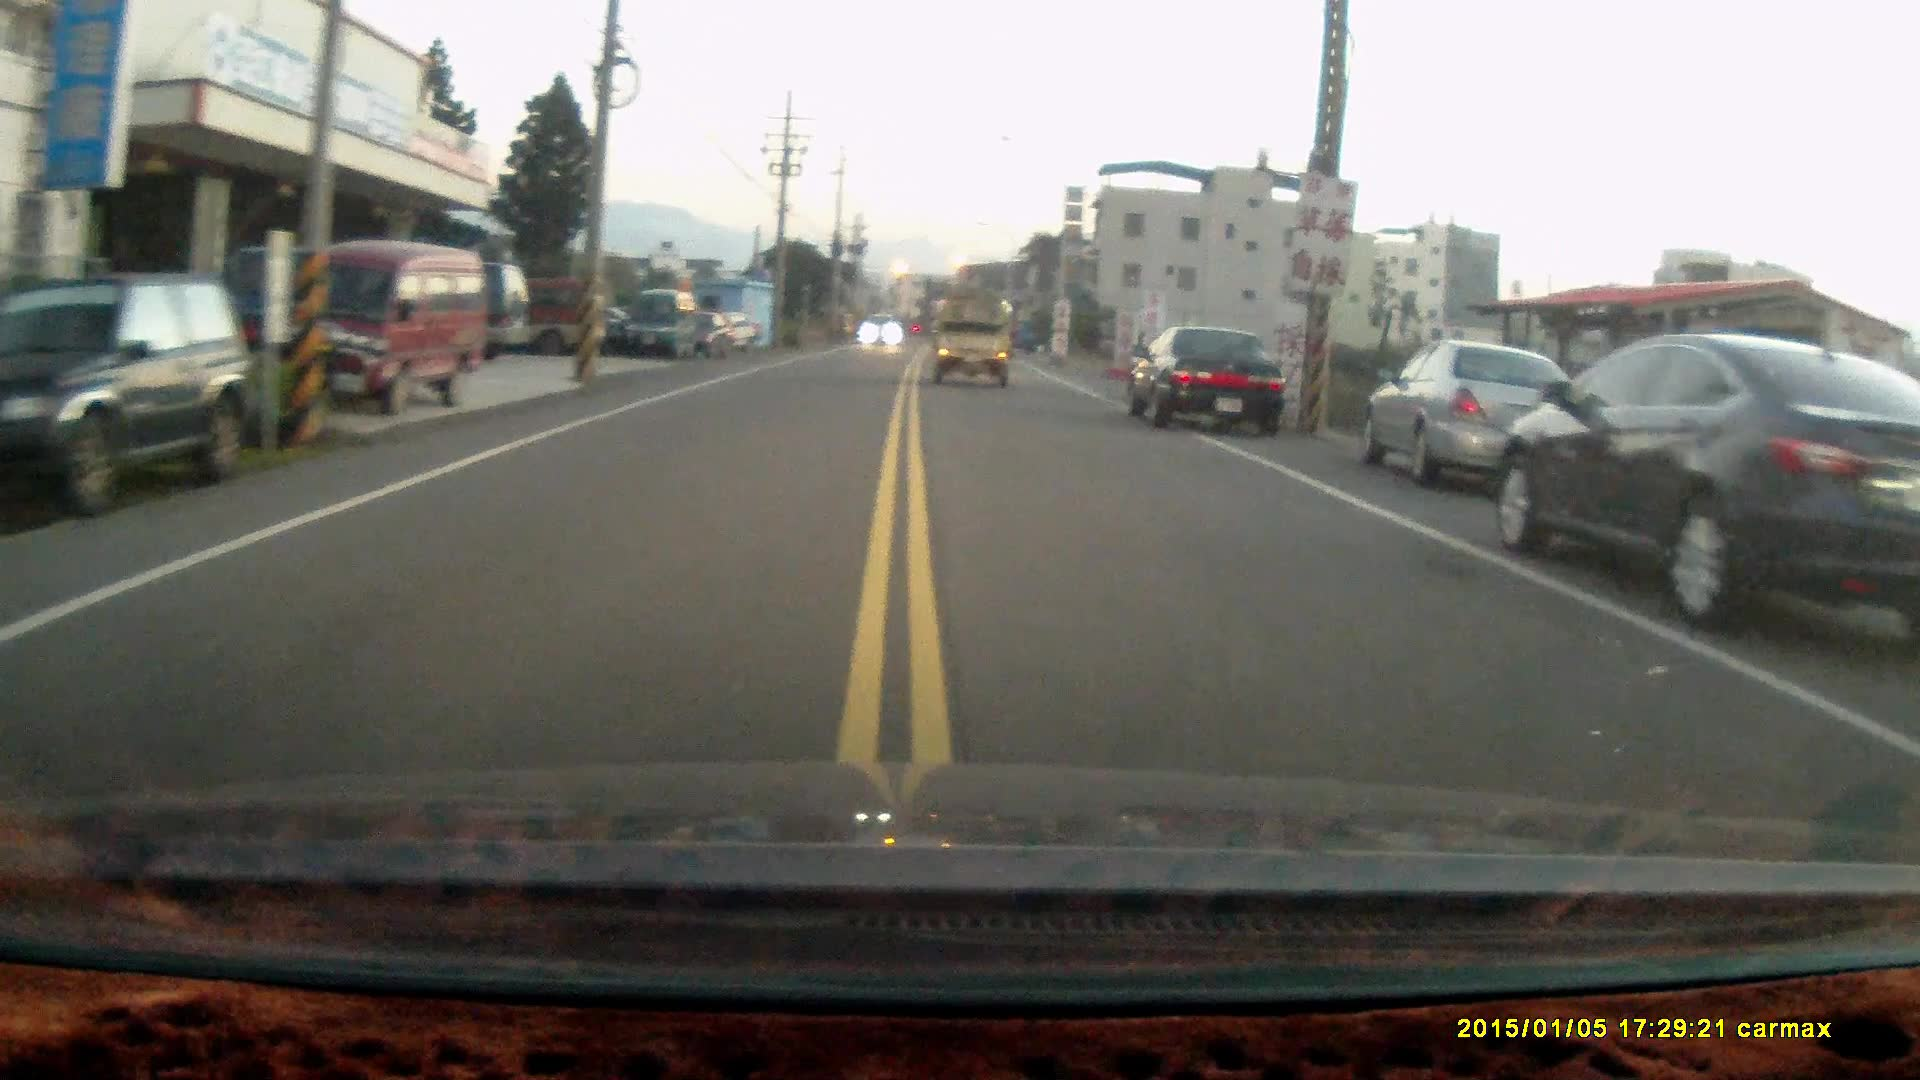vehicle: (1495, 332, 1920, 632), (1, 276, 281, 516), (255, 237, 489, 406), (1364, 334, 1594, 484), (331, 249, 538, 361), (1122, 318, 1287, 436), (446, 268, 603, 349), (938, 294, 1021, 382), (625, 286, 699, 353)
